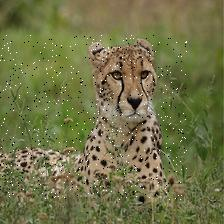Cheetha: (0, 36, 187, 201)
